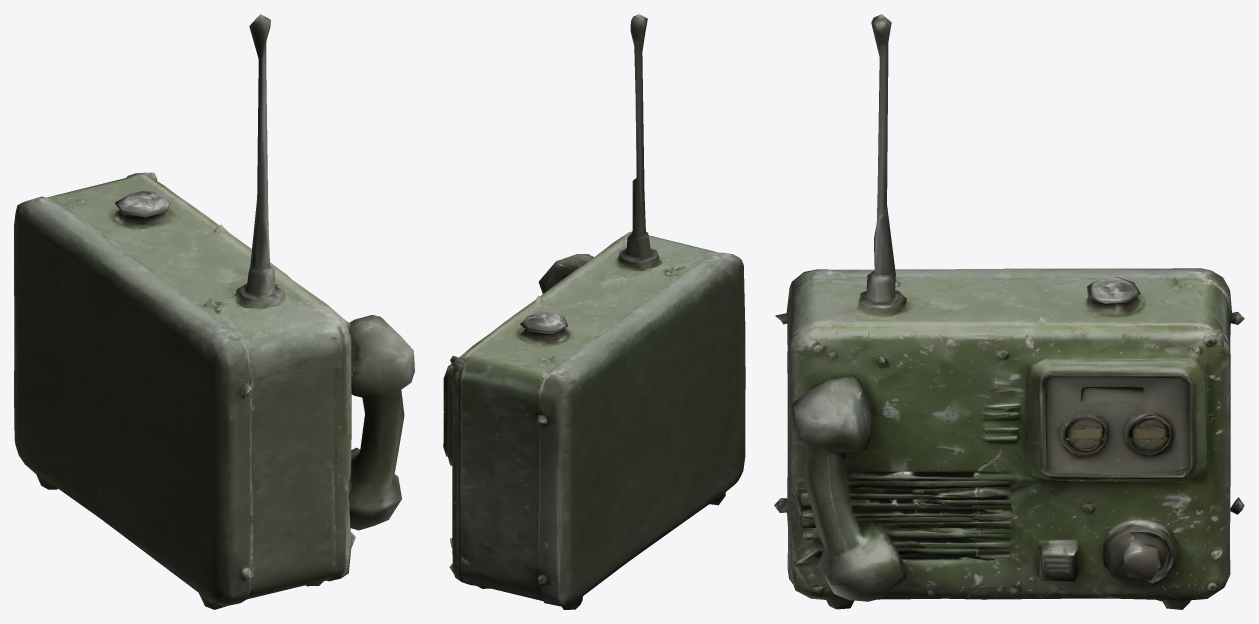
The model's file is cv_radio.glb.
3 renders of one model, left to right at view 1: azimuth 30°, elevation 25°; view 2: azimuth 150°, elevation 25°; view 3: azimuth 270°, elevation 25°, orthographic. The views are drawn at different scales.
Visible parts, largest first — view 1: tripo_node_4a73fff4-8364-4ab4-932e-4c7b3281cfcd; view 2: tripo_node_4a73fff4-8364-4ab4-932e-4c7b3281cfcd; view 3: tripo_node_4a73fff4-8364-4ab4-932e-4c7b3281cfcd.
Part boxes in pixels (box(x1,y1,x2,y2)): tripo_node_4a73fff4-8364-4ab4-932e-4c7b3281cfcd: box(14, 14, 414, 609); tripo_node_4a73fff4-8364-4ab4-932e-4c7b3281cfcd: box(443, 14, 745, 609); tripo_node_4a73fff4-8364-4ab4-932e-4c7b3281cfcd: box(774, 14, 1244, 609).
Bounding box in the file's own units: 0.3897 × 1 × 0.7419.
Materials: 1 (1 with a texture image).
